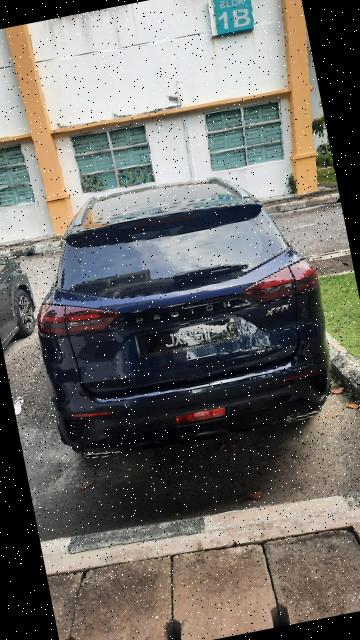License_Plate: (132, 315, 243, 363)
car: (12, 152, 349, 474)
